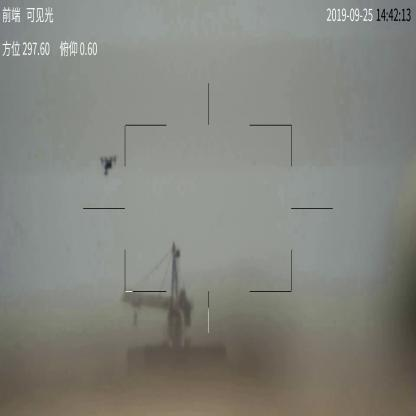uav: (97, 154, 116, 178)
